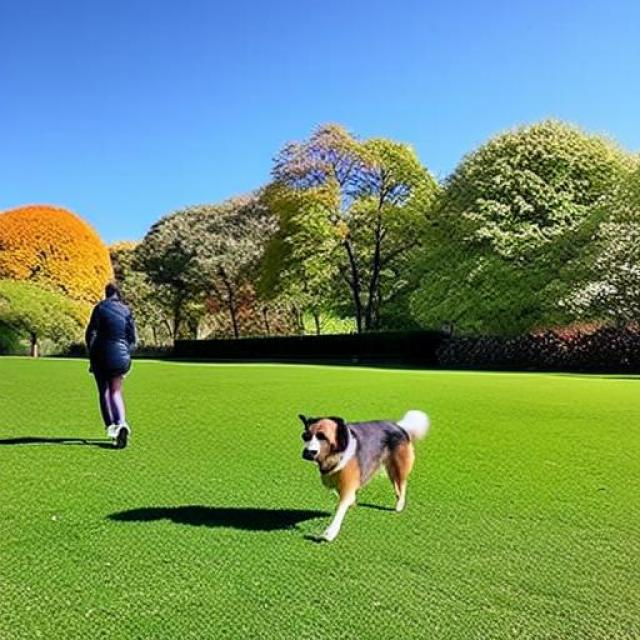Dog: (298, 410, 429, 541)
